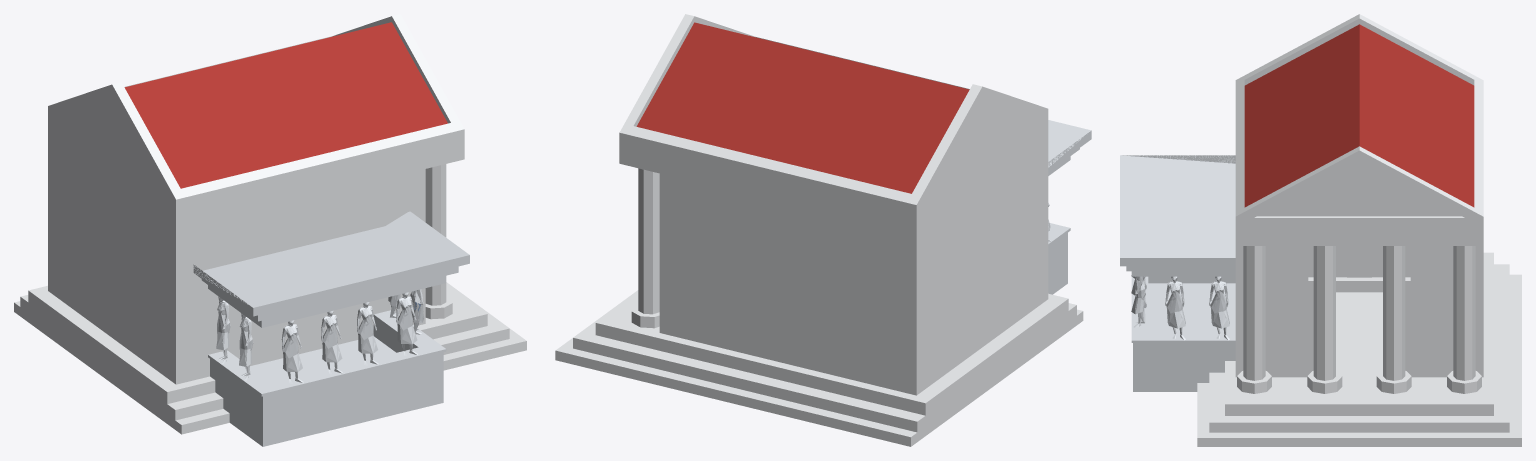
File: Tenple_002.fbx
3 views of the same model, side by side, from view 1: azimuth 30°, elevation 25°; view 2: azimuth 150°, elevation 25°; view 3: azimuth 270°, elevation 25° (orthographic). The views are drawn at different scales.
Visible parts, largest first — view 1: Tenple.002; view 2: Tenple.002; view 3: Tenple.002.
Part boxes in pixels (left/top/right/bottom): Tenple.002: left=14, top=14, right=526, bottom=446; Tenple.002: left=555, top=14, right=1091, bottom=446; Tenple.002: left=1120, top=14, right=1521, bottom=446.
Size of the model in its own units: 2941 by 2323 by 3059.
